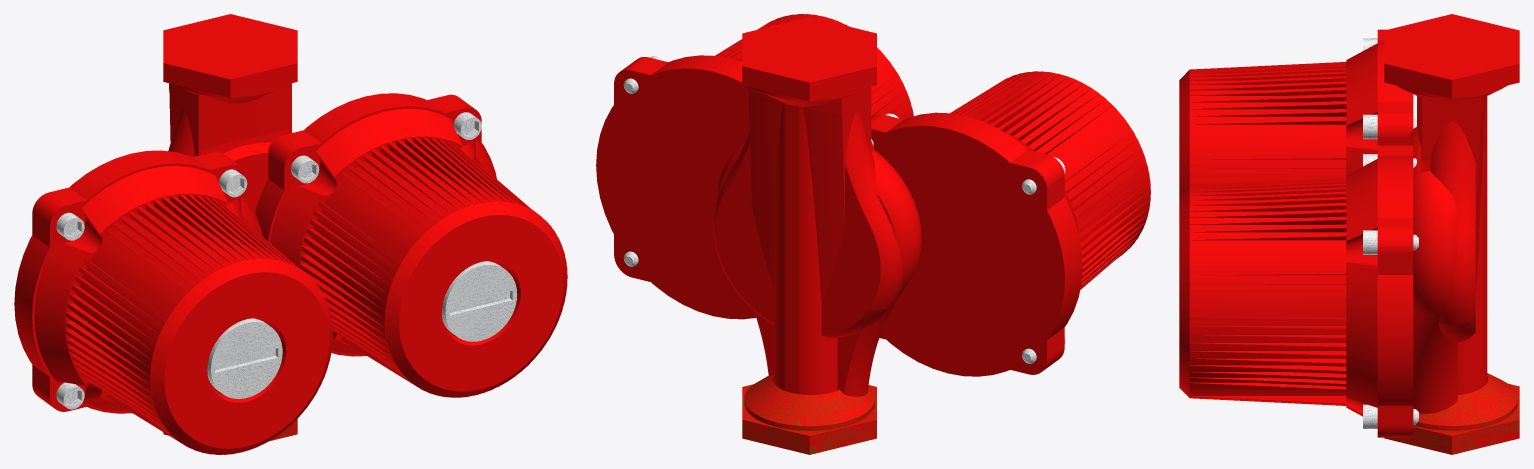
Rendered from pompes.dae.
3 renders of one model, left to right at view 1: azimuth 30°, elevation 25°; view 2: azimuth 150°, elevation 25°; view 3: azimuth 270°, elevation 25°, orthographic.
Visible parts, largest first — view 1: group_71 (×2), group_69 (×2), group_0 (×3), group_73, group_70, group_35, group_17, group_72 (×2), group_34 (×2), group_5 (×2), group_4 (×2), group_6 (×2) (+24 smaller); view 2: group_0 (×5), group_70, group_17, group_71, group_69, group_5, group_88, group_77; view 3: group_0 (×8), group_69, group_17, group_71, group_35, group_73, group_70, group_15 (×2), group_16 (×2), group_14 (×2), group_11 (×2), group_12 (×2) (+22 smaller).
Boxes of the visible parts, x1=… form: group_71 (×2): x1=73, y1=210, x2=332, y2=454; group_69 (×2): x1=308, y1=153, x2=567, y2=397; group_0 (×3): x1=163, y1=14, x2=297, y2=212; group_73: x1=34, y1=166, x2=259, y2=410; group_70: x1=14, y1=150, x2=262, y2=413; group_35: x1=270, y1=108, x2=493, y2=353; group_17: x1=255, y1=93, x2=496, y2=356; group_72 (×2): x1=207, y1=318, x2=282, y2=398; group_34 (×2): x1=442, y1=261, x2=517, y2=341; group_5 (×2): x1=145, y1=145, x2=461, y2=266; group_4 (×2): x1=153, y1=142, x2=469, y2=263; group_6 (×2): x1=137, y1=149, x2=453, y2=270; group_0 (×5): x1=713, y1=17, x2=921, y2=454; group_70: x1=871, y1=112, x2=1082, y2=376; group_17: x1=596, y1=55, x2=756, y2=319; group_71: x1=1006, y1=71, x2=1150, y2=258; group_69: x1=770, y1=14, x2=913, y2=119; group_5: x1=998, y1=78, x2=1076, y2=132; group_88: x1=1077, y1=173, x2=1149, y2=233; group_77: x1=1079, y1=182, x2=1150, y2=242; group_0 (×8): x1=1363, y1=14, x2=1519, y2=454; group_69: x1=1179, y1=185, x2=1346, y2=397; group_17: x1=1377, y1=145, x2=1413, y2=437; group_71: x1=1179, y1=70, x2=1346, y2=194; group_35: x1=1346, y1=159, x2=1377, y2=416; group_73: x1=1346, y1=43, x2=1377, y2=175; group_70: x1=1377, y1=29, x2=1413, y2=145; group_15 (×2): x1=1189, y1=109, x2=1346, y2=232; group_16 (×2): x1=1189, y1=101, x2=1346, y2=224; group_14 (×2): x1=1189, y1=117, x2=1346, y2=240; group_11 (×2): x1=1189, y1=94, x2=1346, y2=217; group_12 (×2): x1=1189, y1=87, x2=1346, y2=211.
Bounding box in the file's own units: 126 × 79.03 × 95.98.
